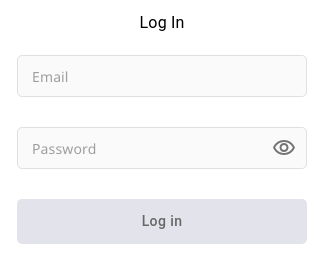
Test: LoginForm › shows error for invalid email format
The image size is (325, 279).
Type "invalid-email" into the field with placeholder "Email".
click(162, 76); type("invalid-email")  # box [18,56,306,96]
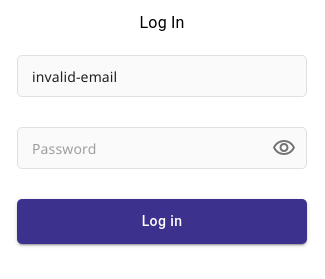
Type "ValidPass123!" into the password field with placeholder "Password".
click(137, 148); type("ValidPass123!")  # box [18,128,256,168]
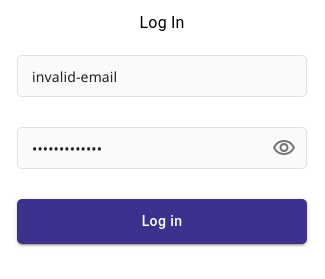
Submit the form from the button "Log in", box [17,199,307,244]
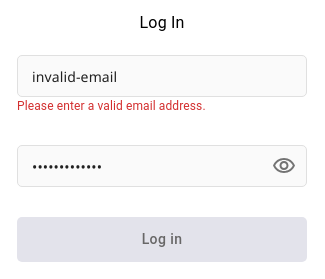
Check: the text "Please enter a valid email address." is shown, box [17,99,206,113]
